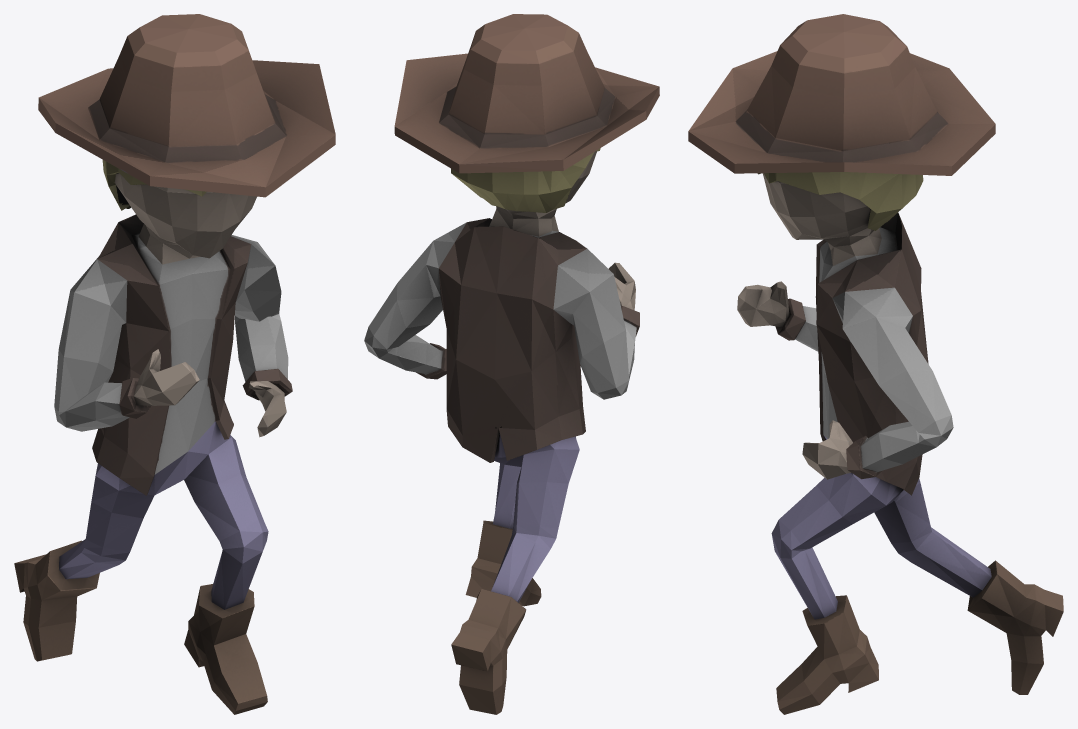
Rendered from char_17.obj.
3 views of the same model, side by side, from view 1: azimuth 30°, elevation 25°; view 2: azimuth 150°, elevation 25°; view 3: azimuth 270°, elevation 25° (orthographic). The views are drawn at different scales.
Visible parts, largest first — view 1: Cube; view 2: Cube; view 3: Cube.
Boxes of the visible parts, x1=… form: Cube: x1=14, y1=14, x2=335, y2=714; Cube: x1=364, y1=14, x2=659, y2=714; Cube: x1=688, y1=14, x2=1063, y2=714.
Bounding box in the file's own units: 3.49 × 8.58 × 4.31.
Materials: 1 (1 with a texture image).
